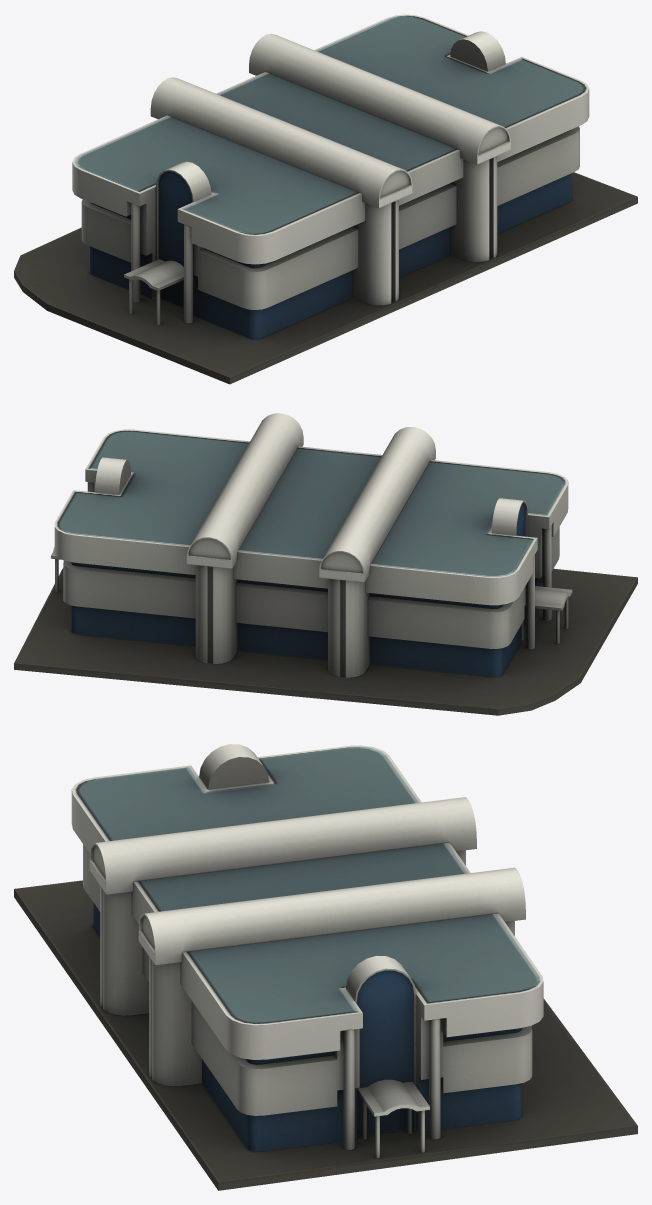
The model's file is gjzlzx.gltf.
3 renders of one model, top to bottom at view 1: azimuth 30°, elevation 25°; view 2: azimuth 150°, elevation 25°; view 3: azimuth 270°, elevation 25°, orthographic. The views are drawn at different scales.
Visible parts, largest first — view 1: polySurface7, pCube1, polySurface5, polySurface8, polySurface9, polySurface11, pCylinder3, pCylinder13, pCylinder4, pCylinder5, pCylinder1; view 2: polySurface7, pCube1, polySurface8, polySurface5, polySurface10, polySurface6, pCylinder3, pCylinder13, pCylinder4, pCylinder1, pCylinder5; view 3: polySurface7, pCube1, polySurface8, polySurface5, pCylinder13, polySurface9, polySurface11, pCylinder3, pCylinder14, pCylinder12, pCylinder15.
Boxes of the visible parts, x1,y1,x2,y2 form: polySurface7: (72,14,589,339); pCube1: (14,172,637,384); polySurface5: (150,77,412,208); polySurface8: (249,33,510,164); polySurface9: (450,156,497,261); polySurface11: (352,199,398,305); pCylinder3: (155,161,211,306); pCylinder13: (450,31,505,71); pCylinder4: (124,259,183,290); pCylinder5: (184,224,193,323); pCylinder1: (131,203,140,302); polySurface7: (54,429,568,676); pCube1: (14,568,637,715); polySurface8: (186,413,303,568); polySurface5: (319,427,435,582); polySurface10: (195,565,237,663); polySurface6: (328,578,369,677); pCylinder3: (491,498,527,623); pCylinder13: (95,457,130,494); pCylinder4: (524,586,572,610); pCylinder1: (526,555,534,649); pCylinder5: (543,526,551,620); polySurface7: (71,745,543,1151); pCube1: (14,880,637,1190); polySurface8: (138,867,525,965); polySurface5: (89,797,476,894); pCylinder13: (346,956,416,1136); polySurface9: (149,957,201,1086); polySurface11: (100,886,149,1015); pCylinder3: (199,744,269,789); pCylinder14: (357,1079,429,1116); pCylinder12: (343,1029,354,1149); pCylinder15: (429,1018,440,1139).
Size of the model in its own units: 18.4 by 4.48 by 14.68.
Materials: 1 (1 with a texture image).
